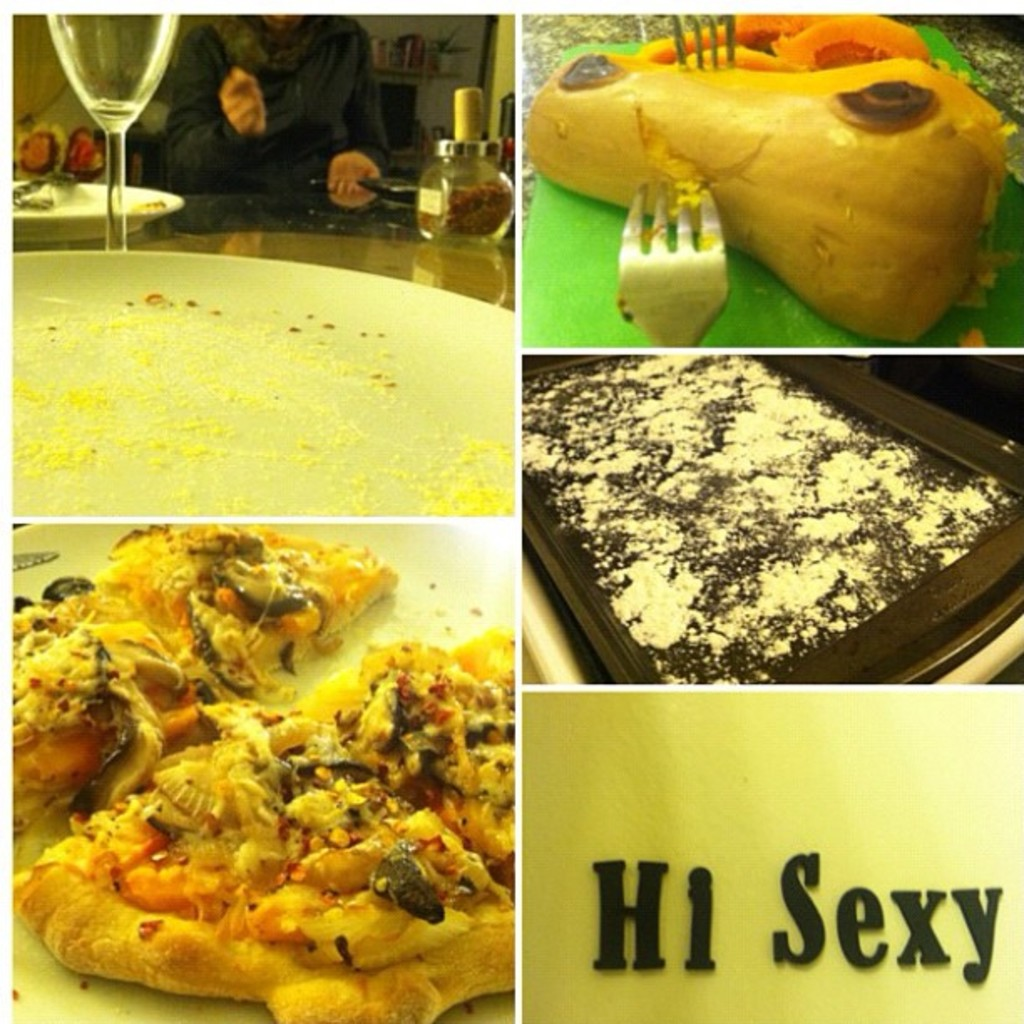Pizza: (0, 538, 495, 995)
